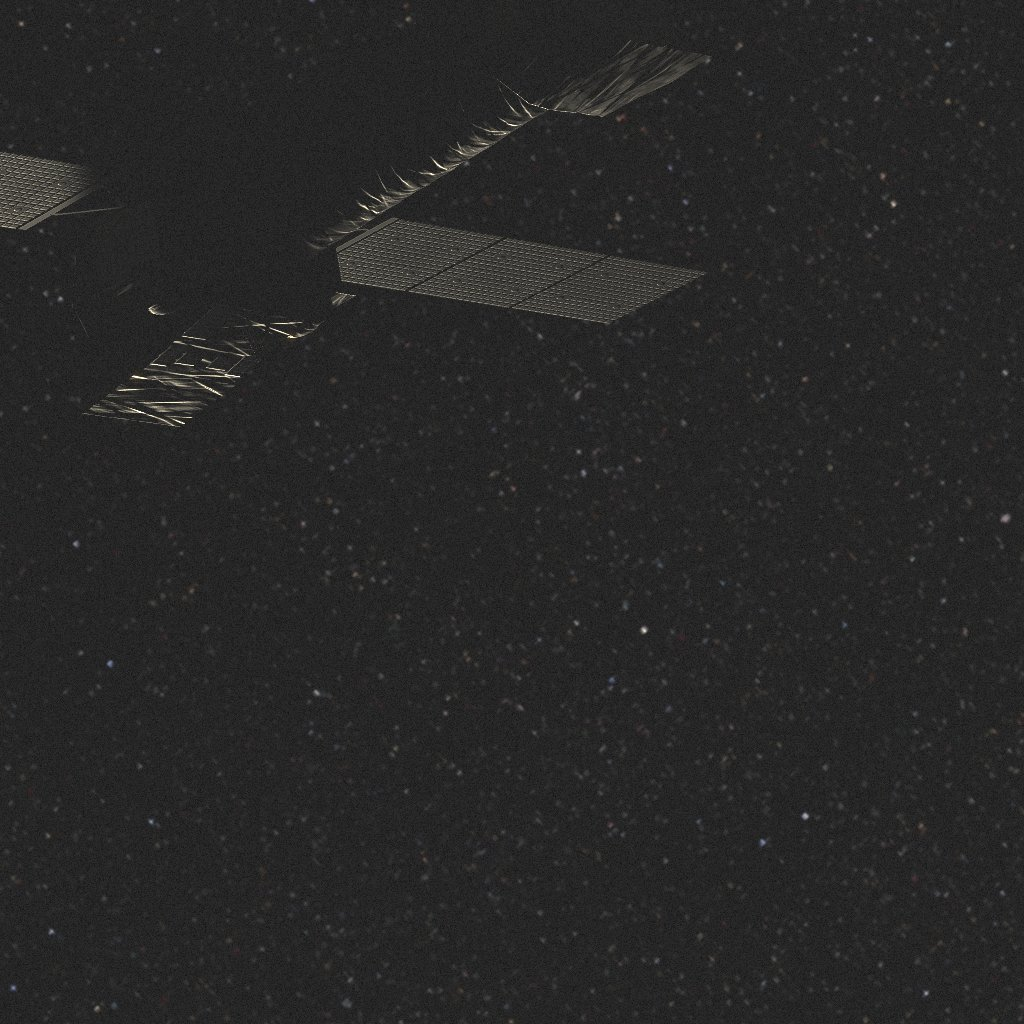xmm_newton: (0, 0, 712, 427)
